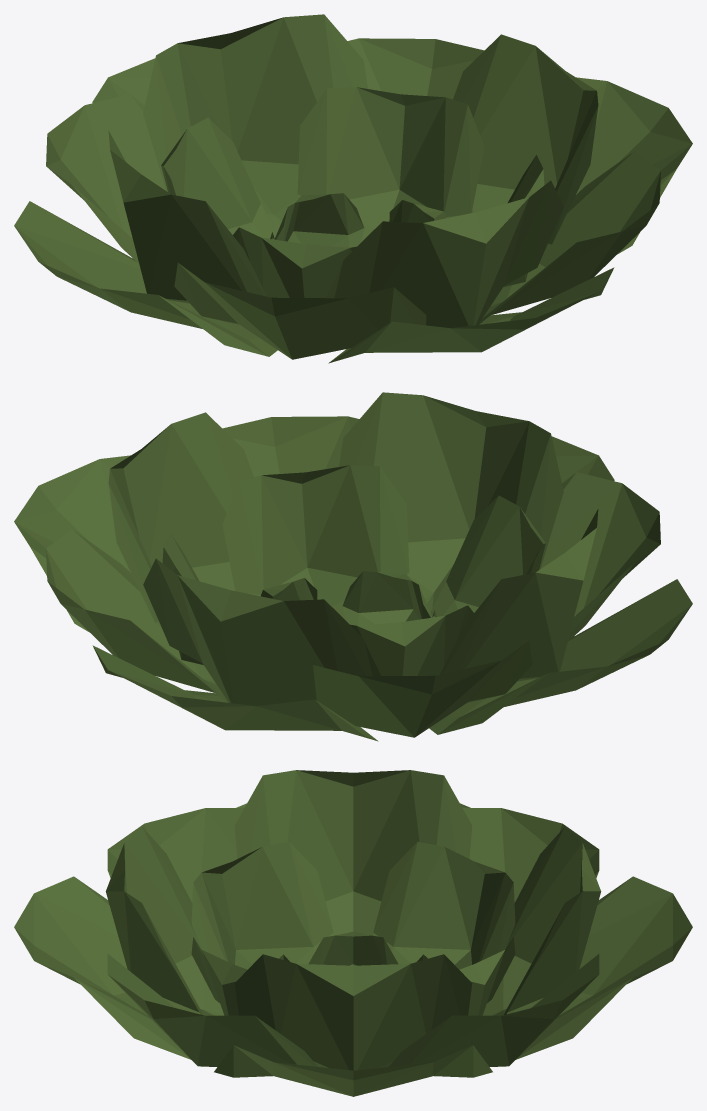
The model's file is stage_3.fbx.
The picture shows the model from 3 angles, top to bottom: view 1: azimuth 30°, elevation 25°; view 2: azimuth 150°, elevation 25°; view 3: azimuth 270°, elevation 25°; orthographic projection. The views are drawn at different scales.
Visible parts, largest first — view 1: stage_3; view 2: stage_3; view 3: stage_3.
Boxes of the visible parts, left/top/right/bottom form: stage_3: left=14, top=14, right=692, bottom=363; stage_3: left=14, top=392, right=692, bottom=741; stage_3: left=14, top=770, right=692, bottom=1096.
Bounding box in the file's own units: 425 × 136 × 425.
